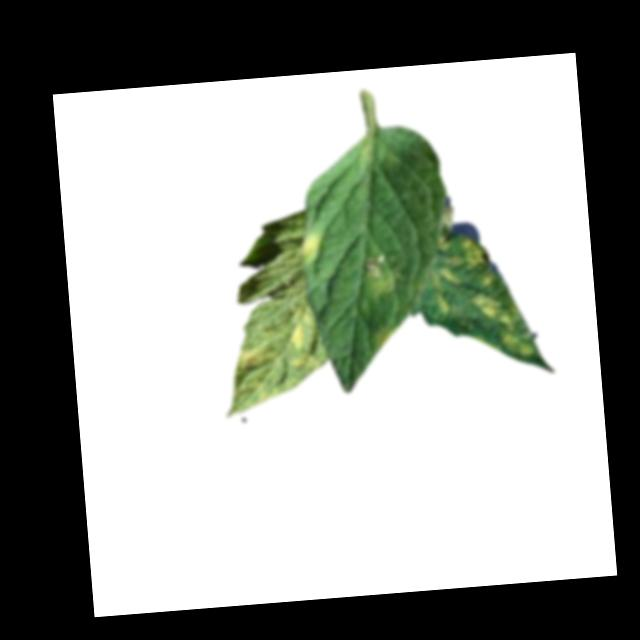Leaf_Mold: (225, 344, 284, 415), (287, 306, 322, 371), (429, 265, 463, 317), (472, 289, 515, 326), (298, 231, 330, 265), (499, 330, 535, 357), (461, 234, 488, 269)
